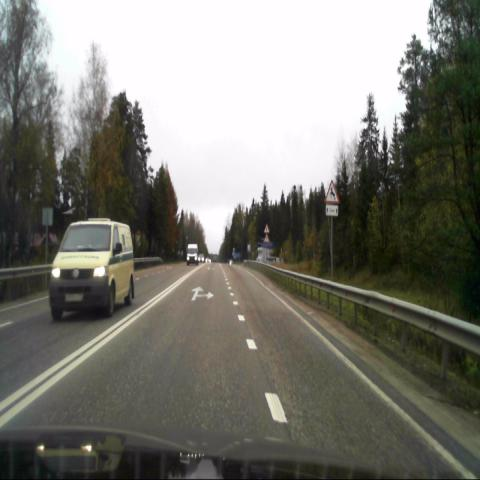1_27: (325, 181, 338, 203)
